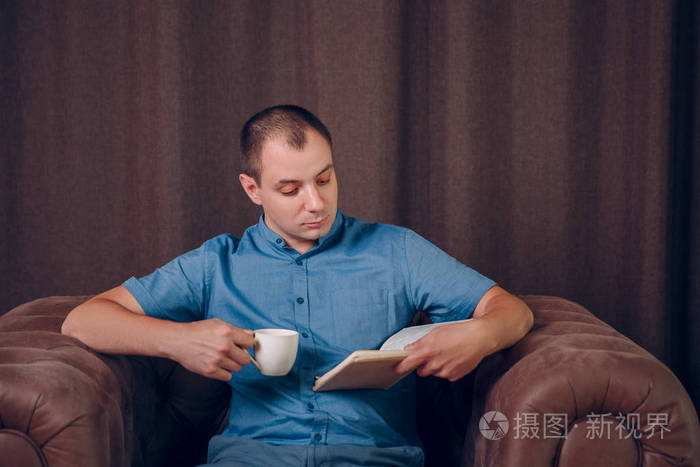book: (306, 309, 494, 395)
